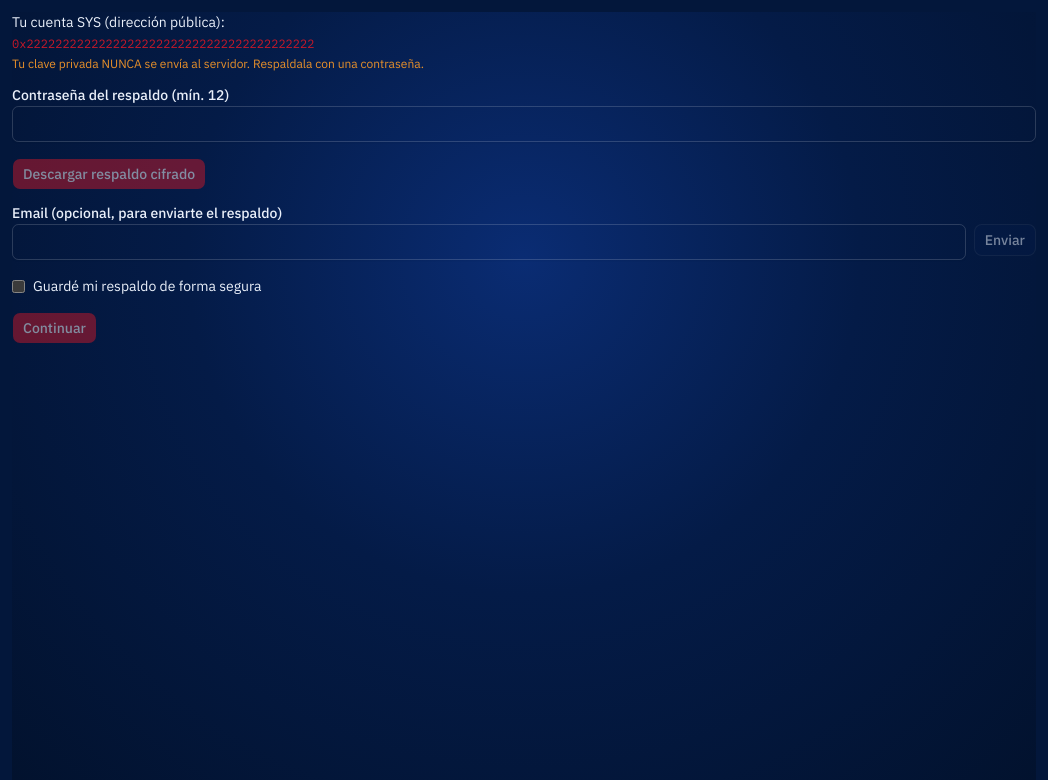
it: StepWallet › descarga el respaldo cifrado tras poner contraseña
Type "clave-larga-123" into the password field labelled "Contraseña del respaldo (mín. 12)" at (524, 124), box top-left (12, 106), bottom-right (1036, 142)
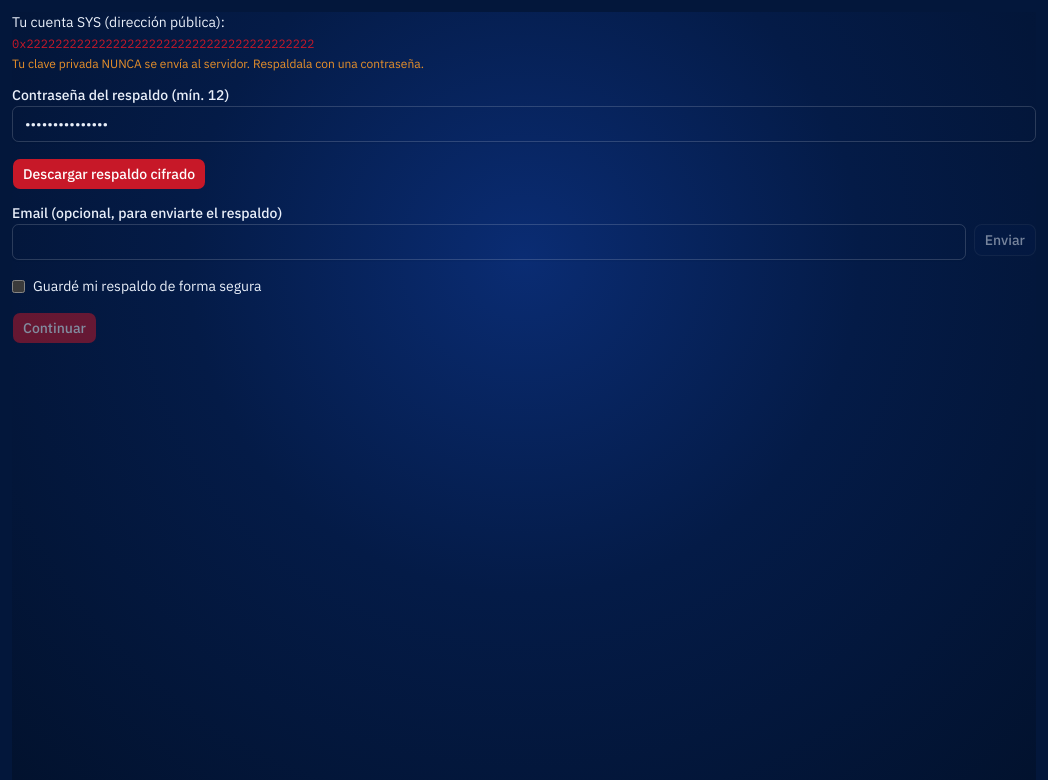
Expected: the button "Descargar respaldo cifrado" is enabled
Click the button "Descargar respaldo cifrado" at (109, 174), box top-left (12, 158), bottom-right (206, 190)
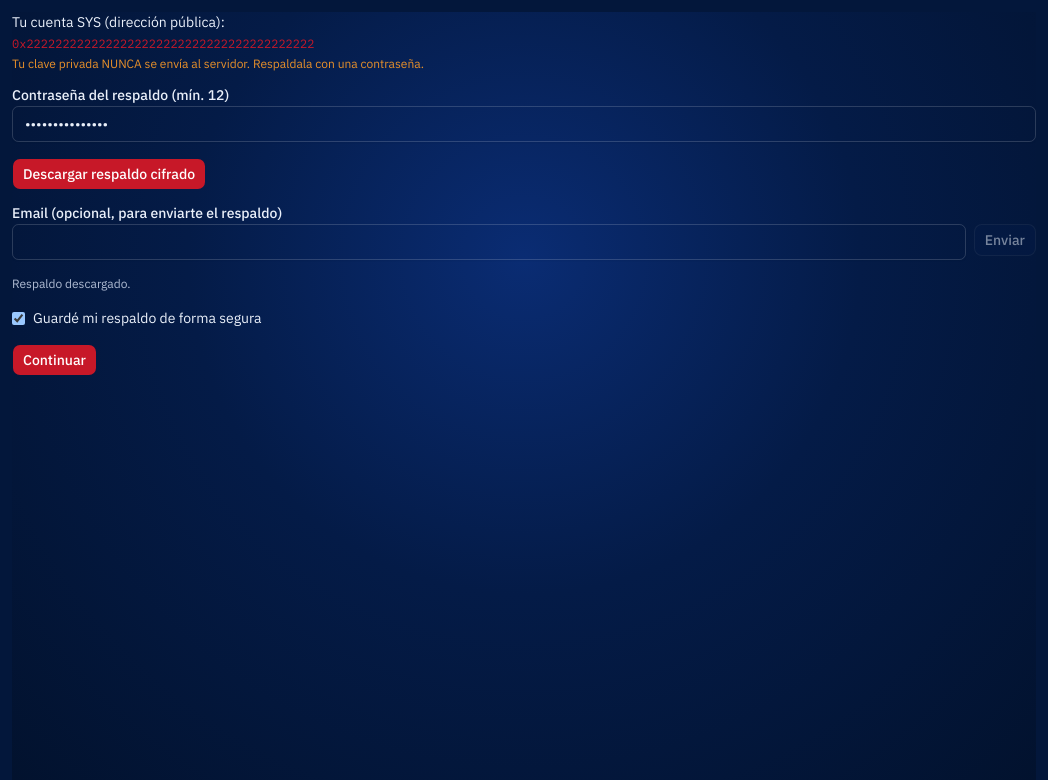
Expected: the text "Respaldo descargado." is shown, top-left (12, 276), bottom-right (130, 291)
